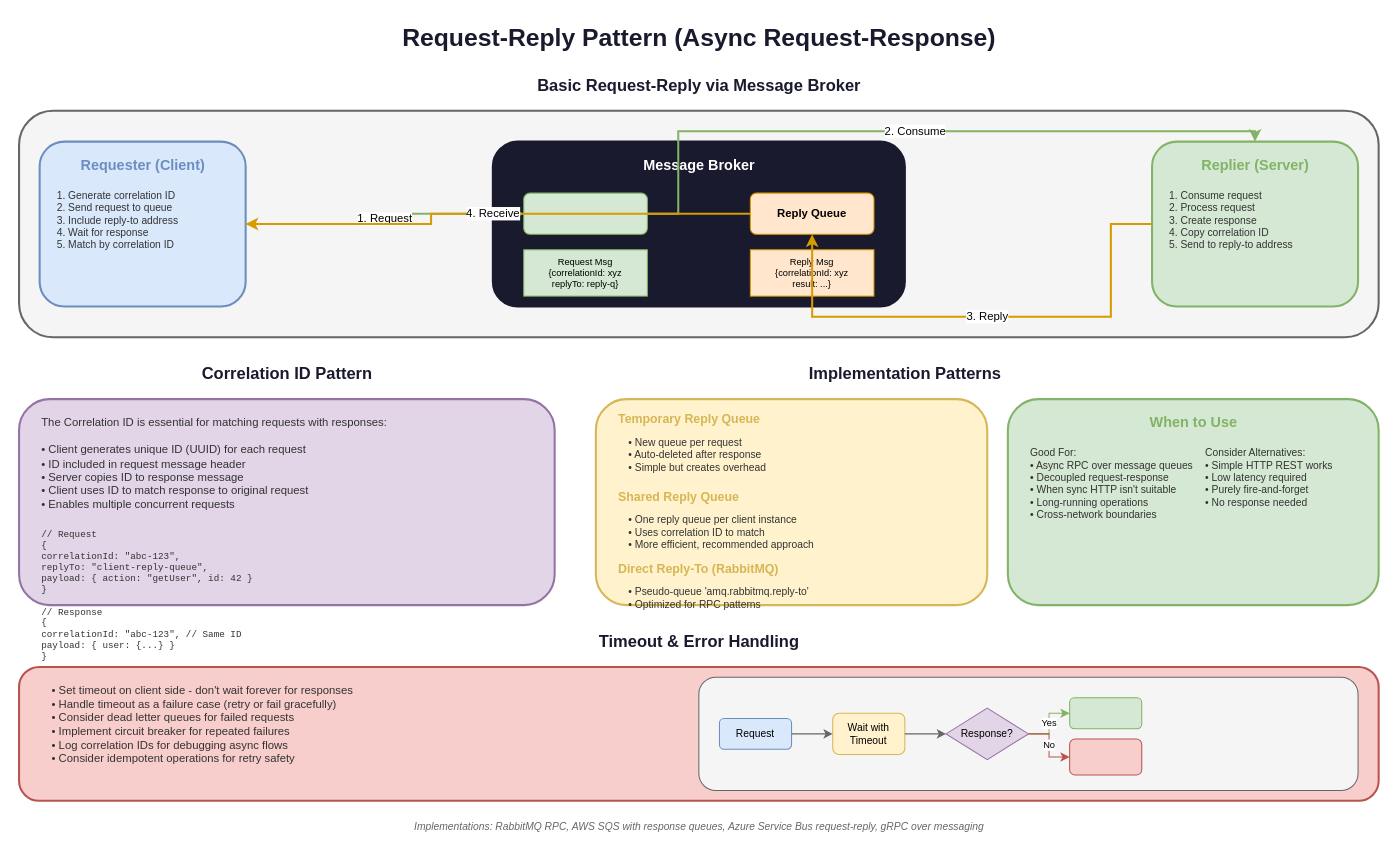
Some shapes in this 1397 by 854 pixel diagram are drawn without their labels. The shapes that lost their labels are listed below. From the top down, each one's centre as x and y in pixels, then its label:
the point at 585,213: Request Queue
the point at 1105,713: Success
the point at 1105,756: Timeout/ Retry
